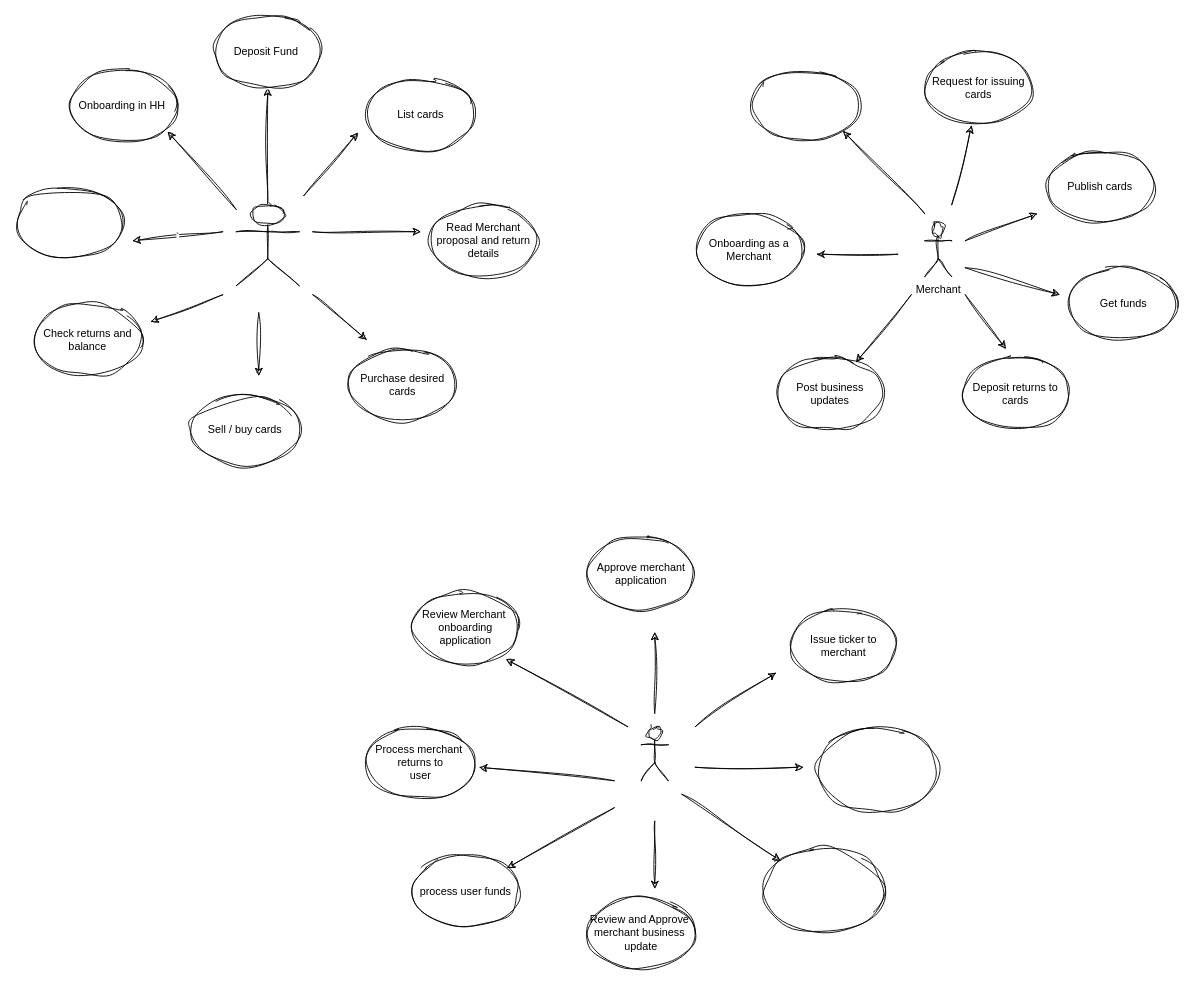
The diagram is 1193 pixels wide and 985 high, and some of its shapes have lost their labels. The shapes that lost their labels are listed below. From the top down, each one's centre as x and y in pixels, then its label:
(804,105): Create company profile / Pitch business idea
(69,222): Request Withdrawals
(267,245): User
(654,753): Admin
(877,769): Review and approve merchant issue card requests
(823,890): Prepare legal contracts with merchant for return process
